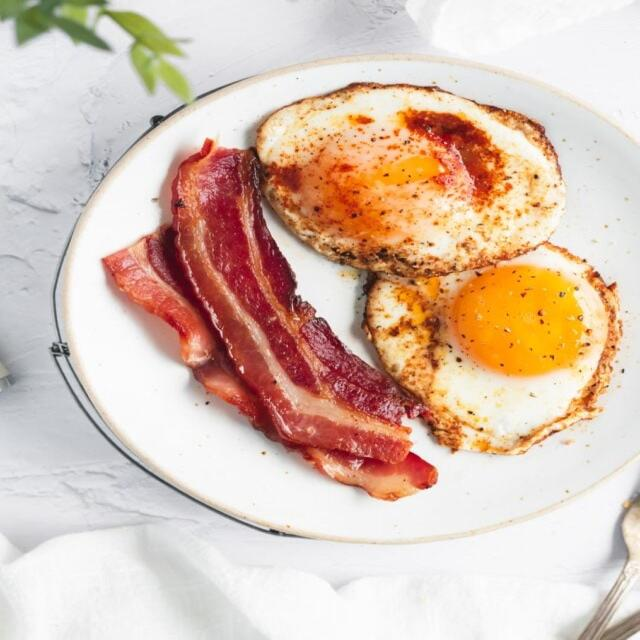Bacon: (103, 141, 436, 499), (173, 140, 423, 463)
Egg: (257, 84, 565, 277), (365, 244, 620, 454)
